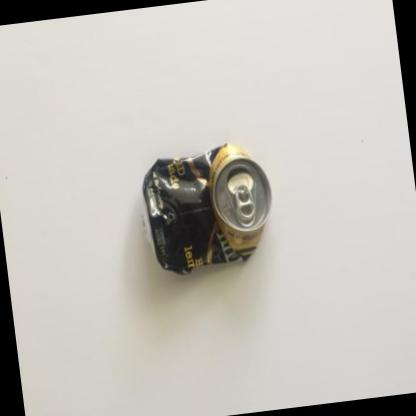Metal: (142, 143, 269, 273)
